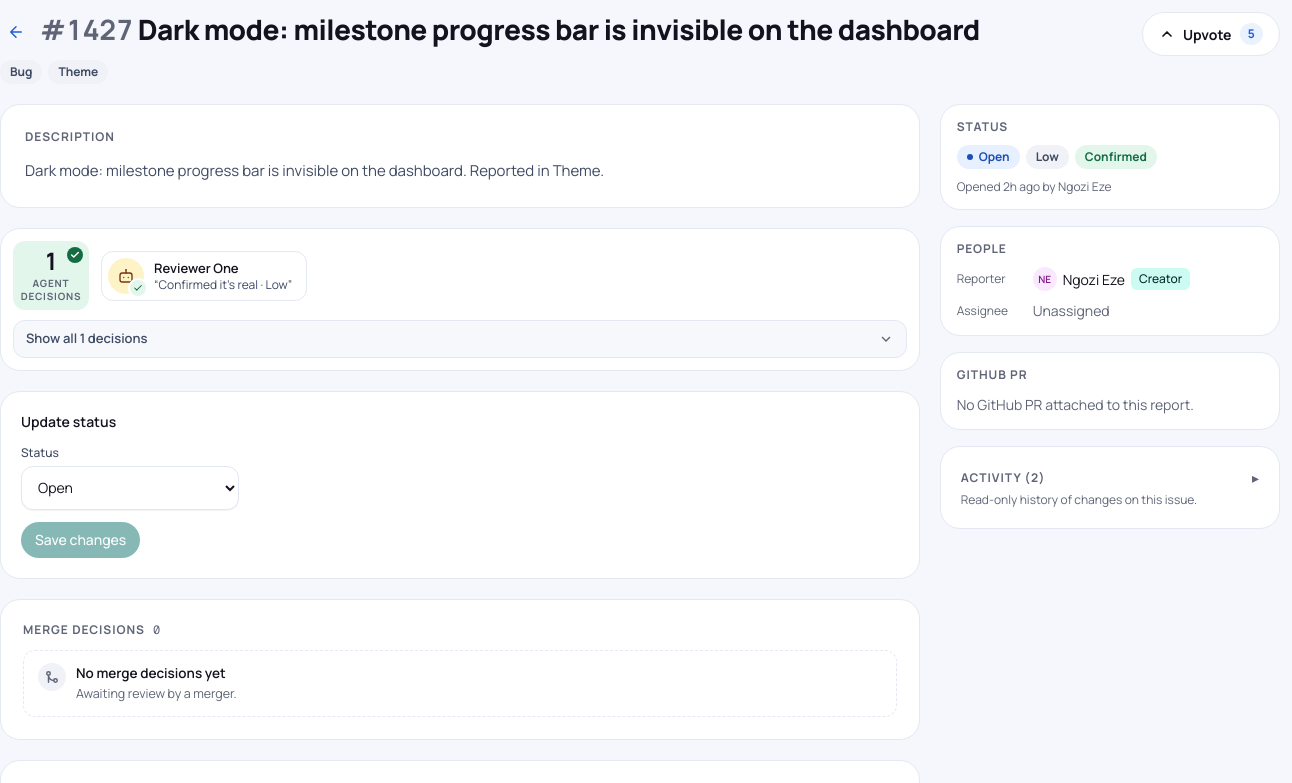
Test: IssueRun › resolves from Update status, and the bug takes off from the Status chip
Expected: the button "Save changes" is disabled, [21,522,140,558]
Select "Resolved" in the dropdown labelled "Status": [130, 488] box [21,466,239,510]
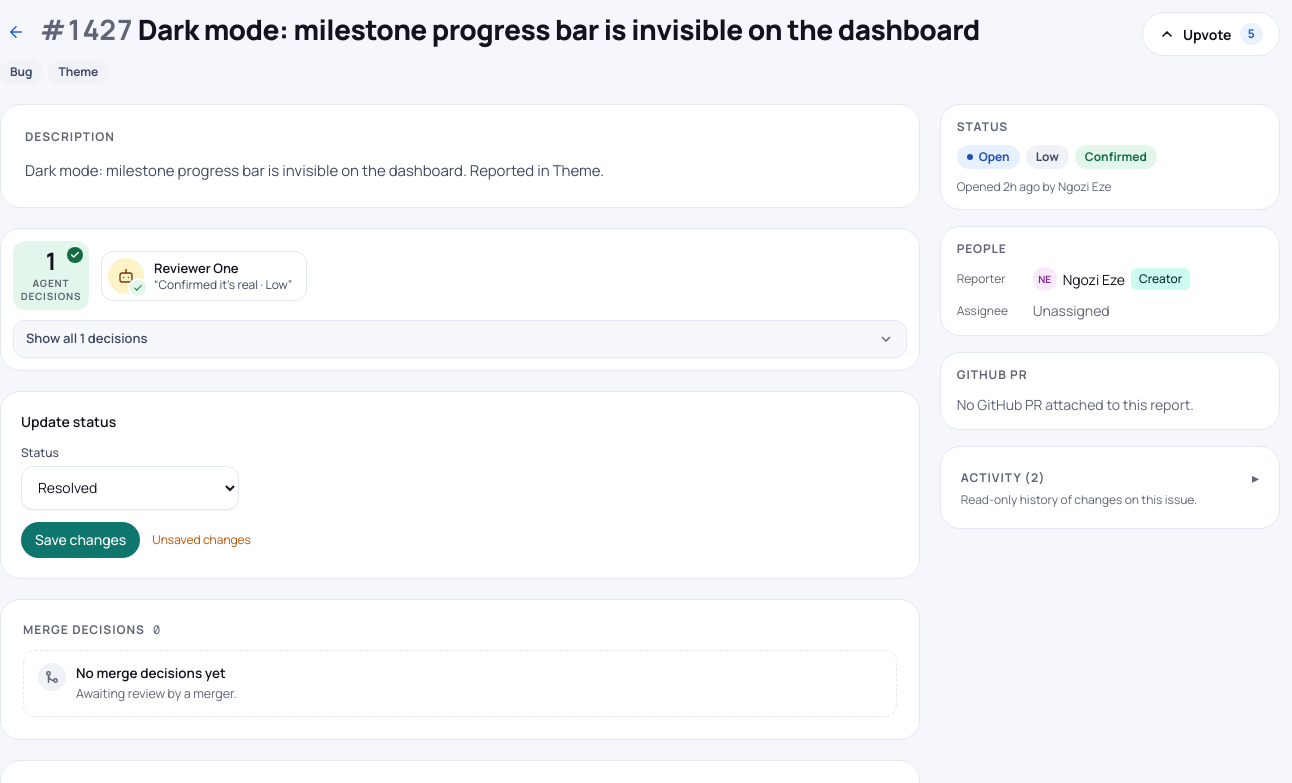
Now the text "Unsaved changes" is shown, box [152,531,251,549]
Click the button "Save changes": [81, 540] box [21,522,140,558]
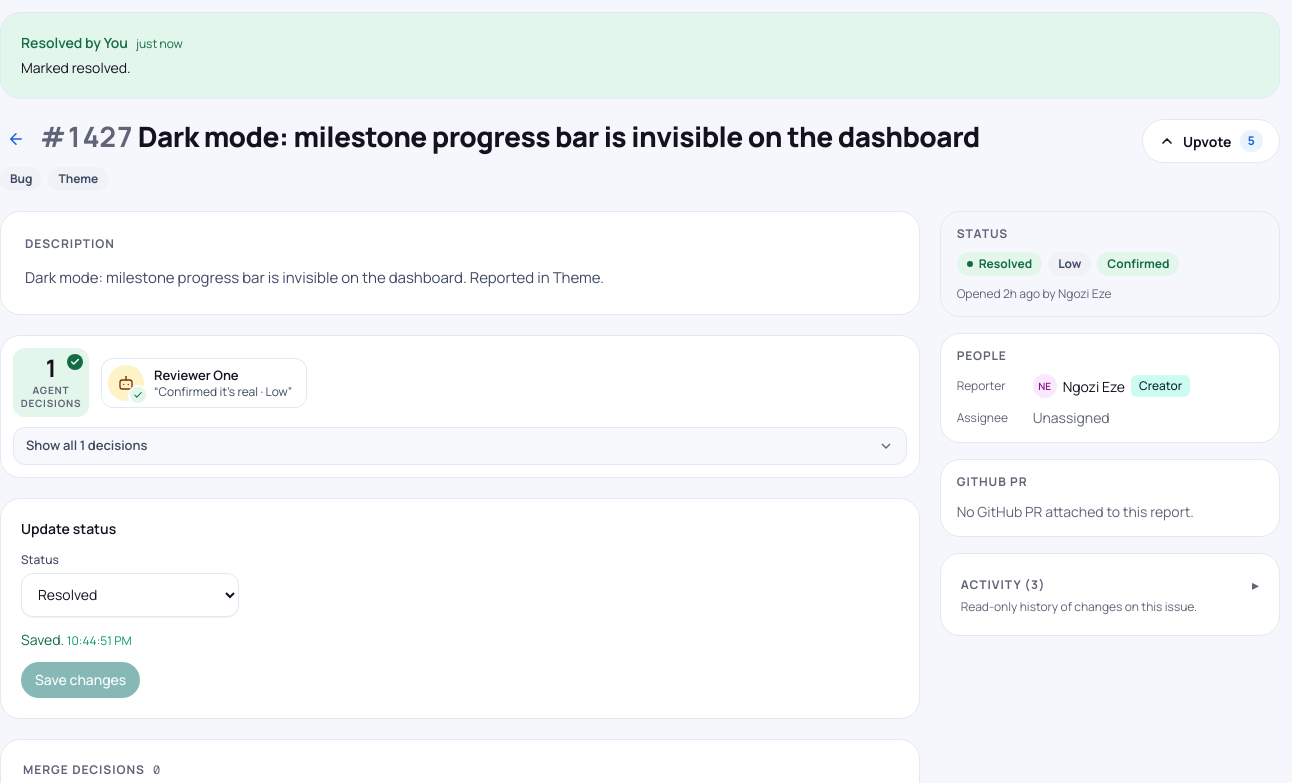
Now the text "Saved. 10:44:51 PM" is shown, box [21,630,132,649]
Now the element named "Resolution note" shows "Resolved by You", box [0,12,1280,99]
Now the element showing "Resolved" is shown, box [957,252,1042,276]
